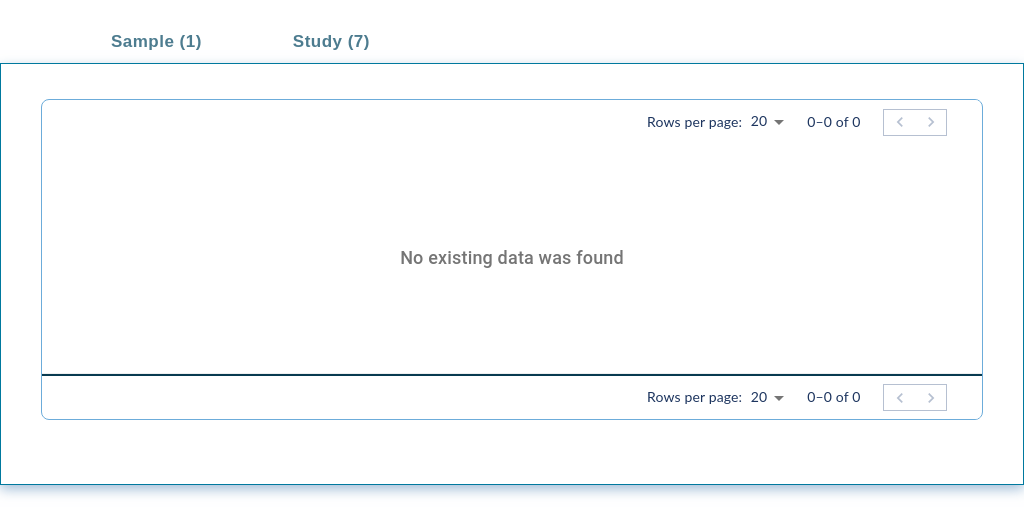
Test: RelatedNodes › properly handles column setup from properties
Step 1. Click the tab with test id "related-nodes-parent-node-tab-0" → [158, 40], box 67,16 -> 249,64
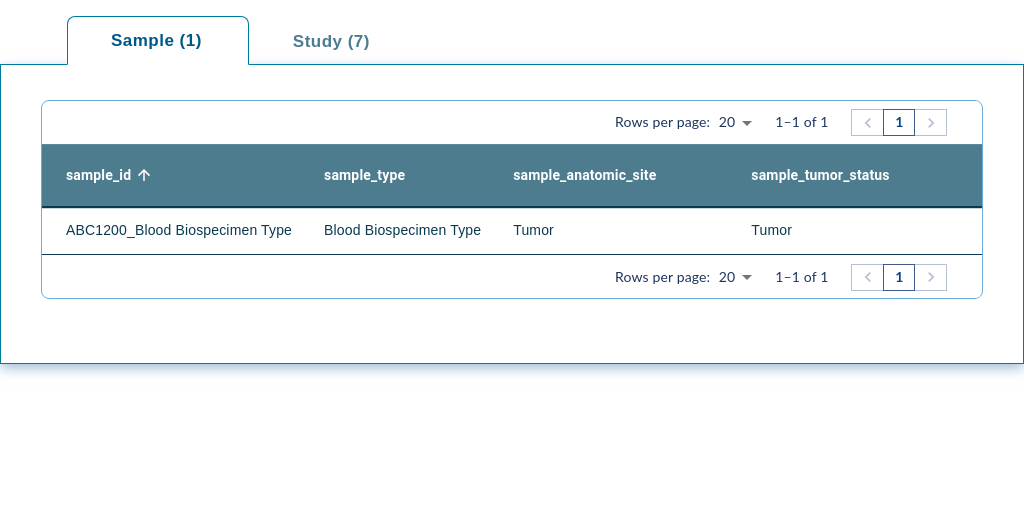
Expected: the table with test id "generic-table" is shown, 42,144 -> 982,254
Expected: the button "sample_id" is shown, 66,166 -> 157,184
